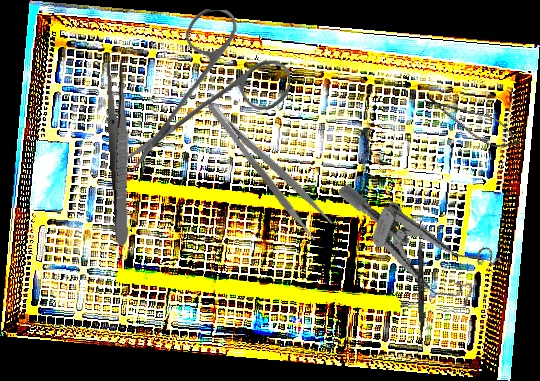Dressing Forceps: (202, 89, 336, 244), (104, 58, 135, 246)
Iris Scissors: (127, 8, 291, 169)
Micro Scissor: (418, 87, 526, 157)
Spatula Surgical: (415, 221, 427, 348)
Speculum: (315, 181, 510, 315)
